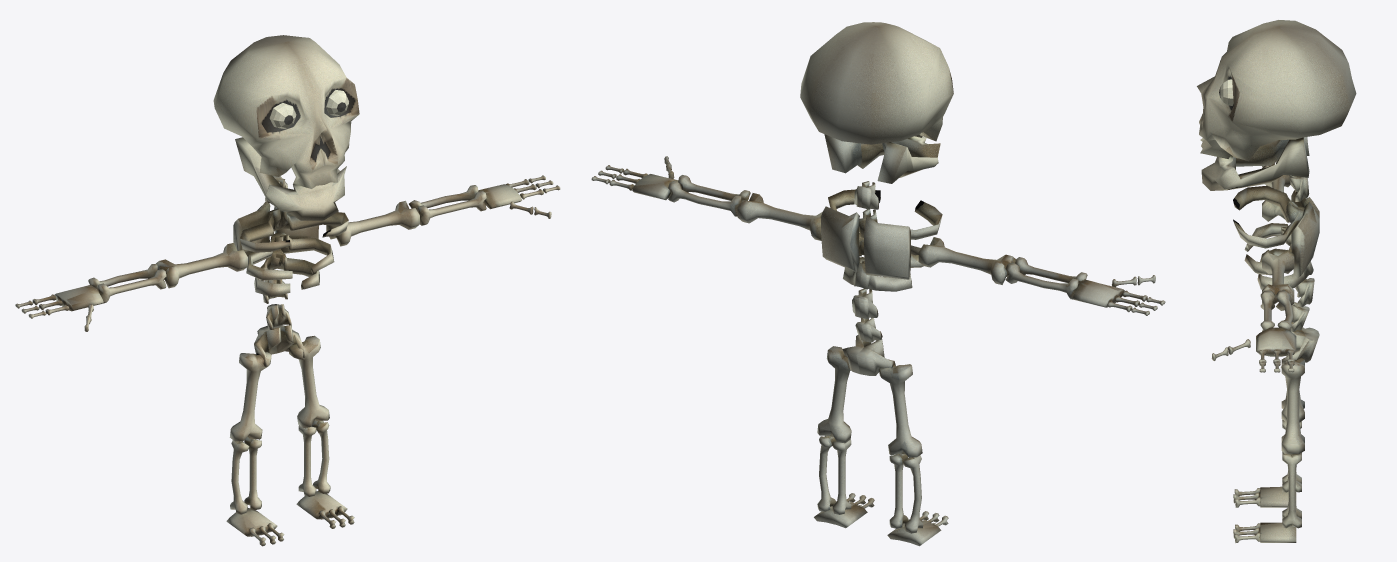
The model's file is teste.fbx.
3 renders of one model, left to right at view 1: azimuth 30°, elevation 25°; view 2: azimuth 150°, elevation 25°; view 3: azimuth 270°, elevation 25°, orthographic. The views are drawn at different scales.
Visible parts, largest first — view 1: esqueleto.001; view 2: esqueleto.001; view 3: esqueleto.001.
Part boxes in pixels (bbox=[...]): esqueleto.001: bbox=[15, 35, 560, 546]; esqueleto.001: bbox=[591, 22, 1165, 546]; esqueleto.001: bbox=[1197, 20, 1356, 543].
Size of the model in its own units: 110 by 95.05 by 32.23.
